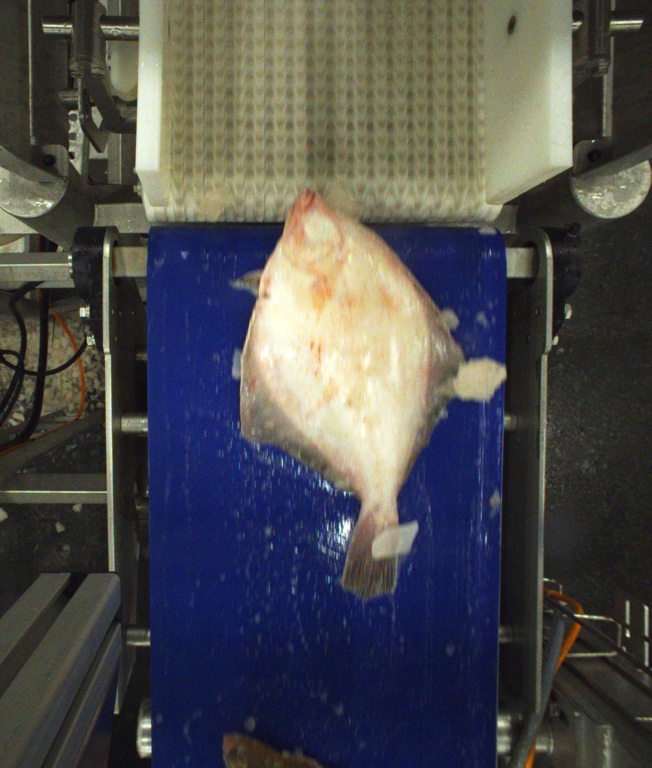PLE: (235, 186, 469, 597)
